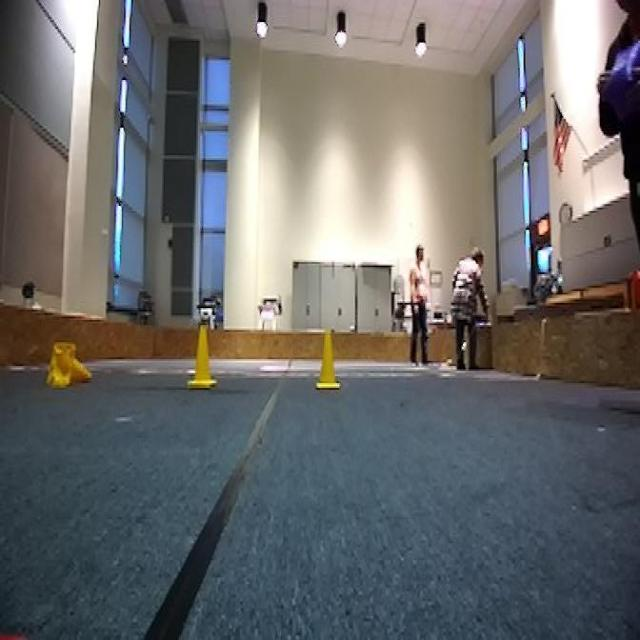frc_cone: (188, 325, 219, 388), (46, 344, 92, 386), (313, 334, 344, 389)
frc_cube: (597, 46, 640, 140)
